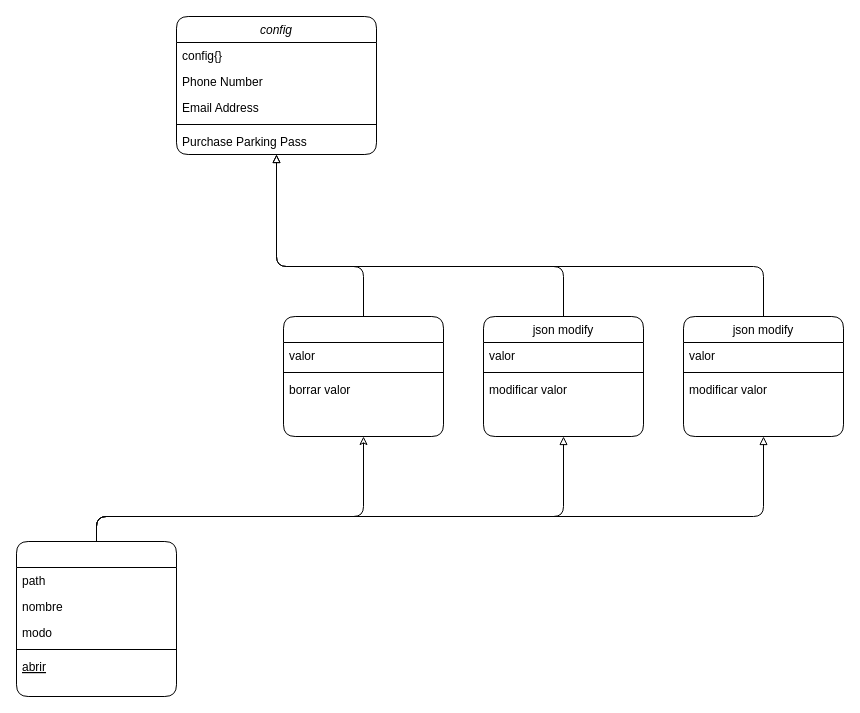
Some shapes in this 860 by 713 pixel diagram are drawn without their labels. The shapes that lost their labels are listed below. From the top down, each one's box as (x1, y1, x2, y2) in pixels, then its label:
(282, 316, 444, 436): json delete
(16, 540, 176, 696): json Open
